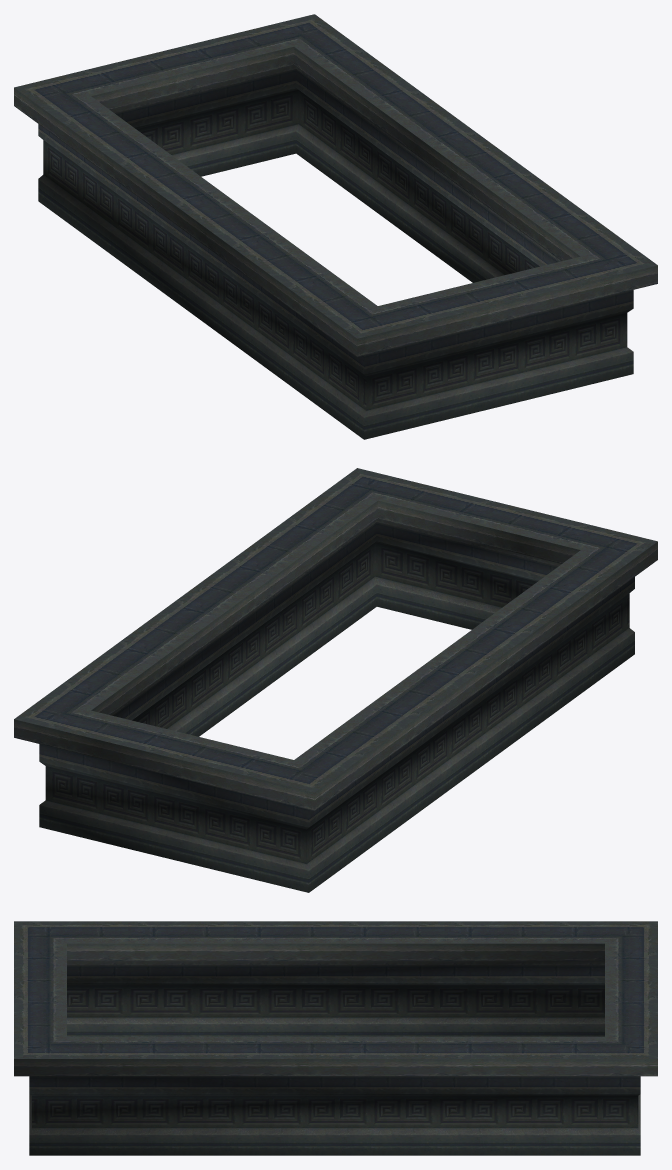
The model's file is environment_common_digongwall_003_a.FBX.
3 renders of one model, top to bottom at view 1: azimuth 30°, elevation 25°; view 2: azimuth 150°, elevation 25°; view 3: azimuth 270°, elevation 25°, orthographic. The views are drawn at different scales.
Parts seen in each view (by area): view 1: environment_common_digongwall_003_a; view 2: environment_common_digongwall_003_a; view 3: environment_common_digongwall_003_a.
Boxes of the visible parts, x1,y1,x2,y2 form: environment_common_digongwall_003_a: [14, 14, 657, 439]; environment_common_digongwall_003_a: [14, 468, 657, 892]; environment_common_digongwall_003_a: [14, 921, 657, 1155].
Bounding box in the file's own units: 314 × 111 × 621.
